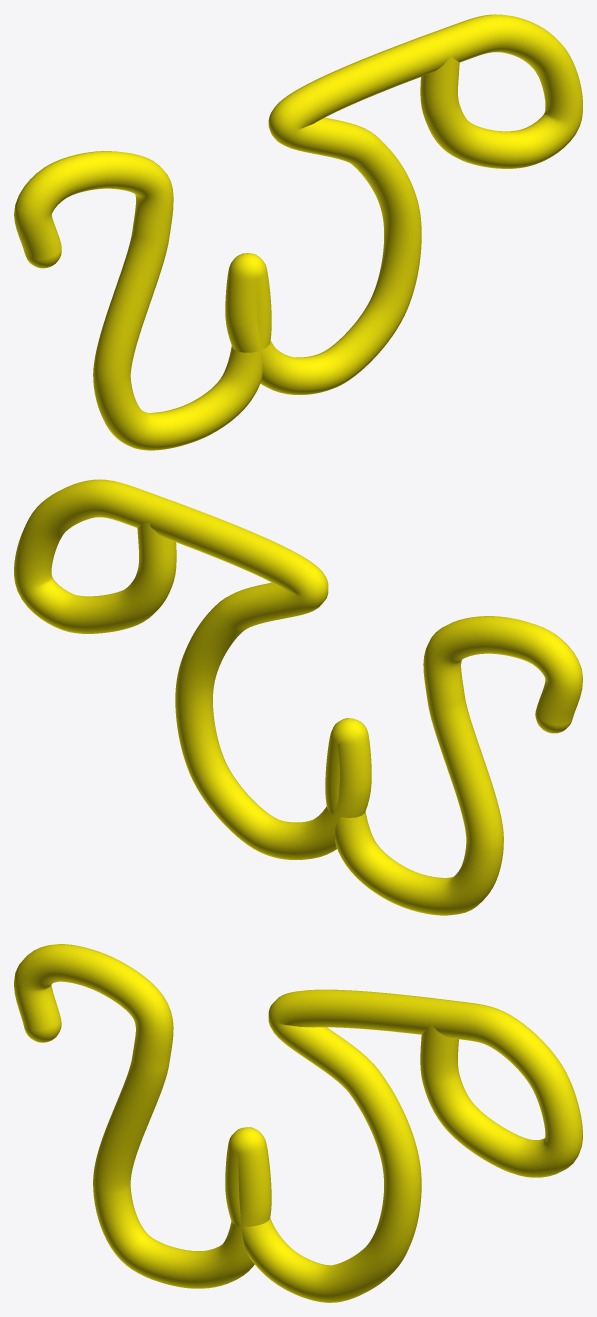
File: ka_telugu2.fbx
3 renders of one model, top to bottom at view 1: azimuth 30°, elevation 25°; view 2: azimuth 150°, elevation 25°; view 3: azimuth 330°, elevation 25°, orthographic.
Visible parts, largest first — view 1: root; view 2: root; view 3: root.
Boxes of the visible parts, box(x1,y1,x2,y2) form: root: box(14, 14, 582, 450); root: box(14, 479, 582, 915); root: box(14, 944, 582, 1302).
Size of the model in its own units: 1.03 by 0.6147 by 0.0593.
